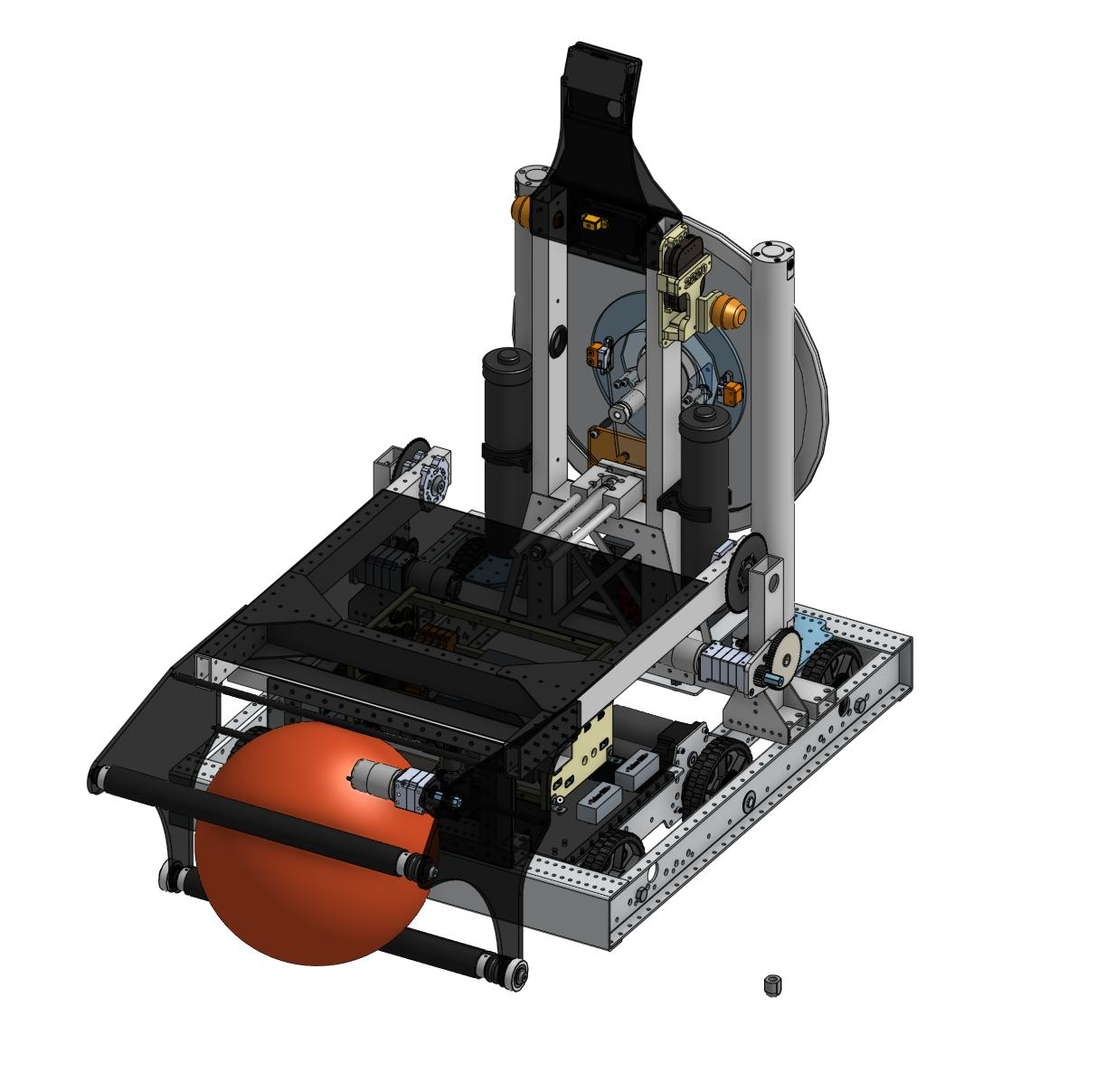robot: (80, 30, 942, 1008)
